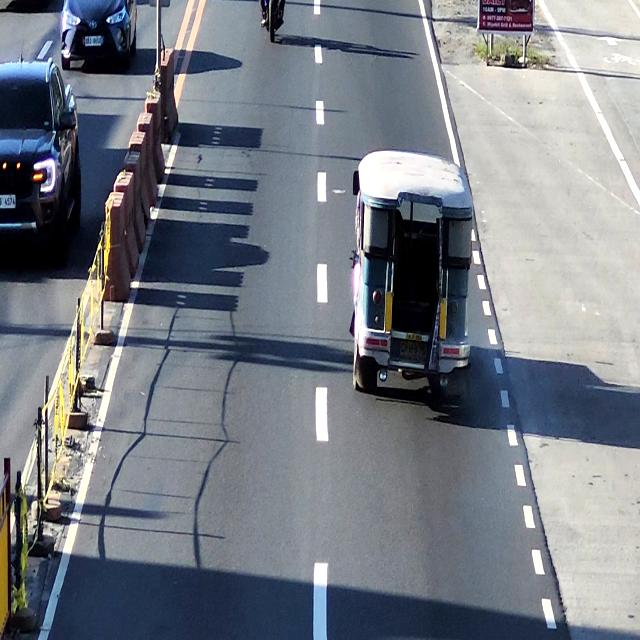Jeep: (354, 146, 468, 412)
License-Plate: (396, 337, 430, 363)
Motorcycle: (259, 0, 284, 46)
